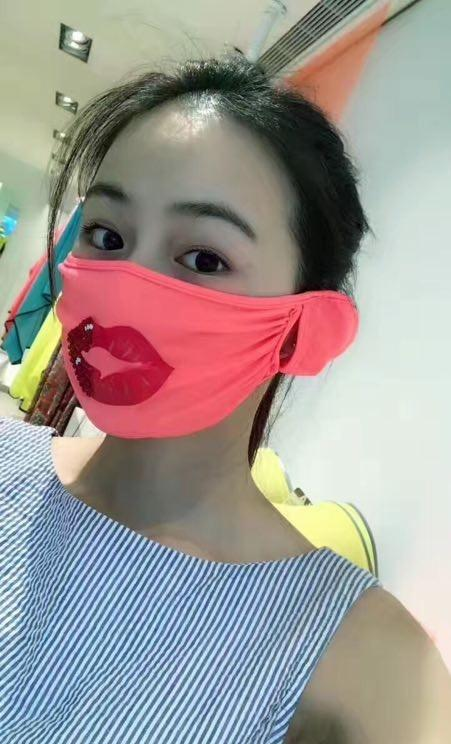OK: (40, 175, 306, 441)
